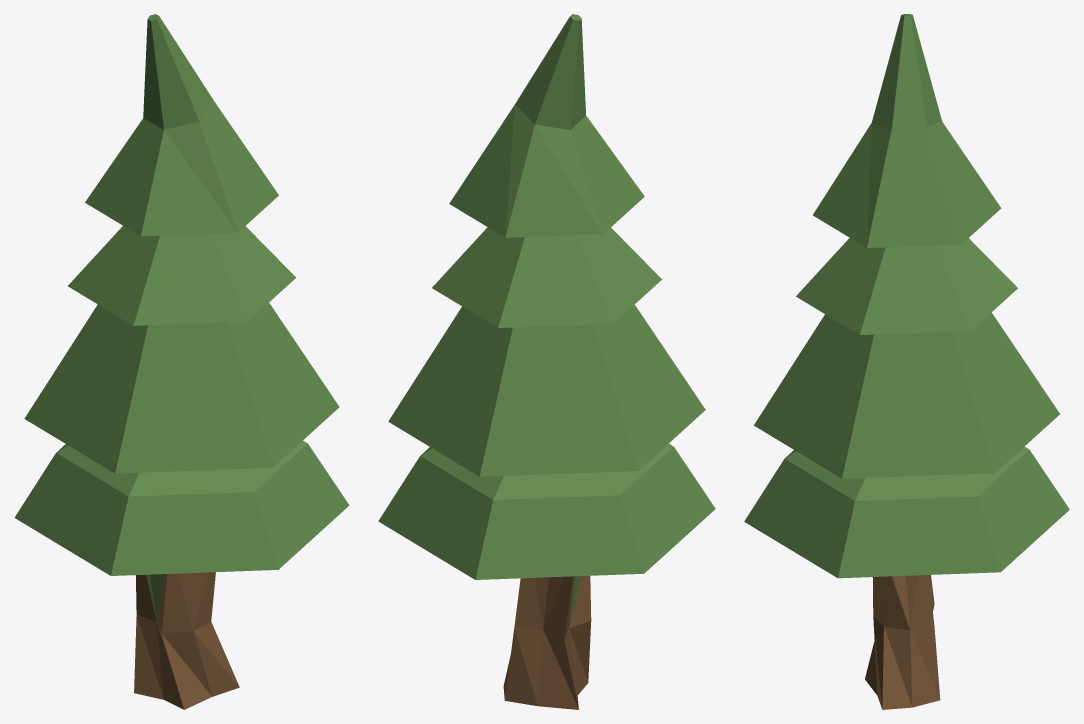
The model's file is tree3d-169.glb.
The picture shows the model from 3 angles, left to right: view 1: azimuth 30°, elevation 25°; view 2: azimuth 150°, elevation 25°; view 3: azimuth 270°, elevation 25°; orthographic projection. The views are drawn at different scales.
Visible parts, largest first — view 1: tree3d-169; view 2: tree3d-169; view 3: tree3d-169.
Part boxes in pixels (x1,y1,x2,y2): tree3d-169: [14, 14, 349, 709]; tree3d-169: [378, 14, 715, 709]; tree3d-169: [744, 14, 1069, 709].
Size of the model in its own units: 0.4062 by 1 by 0.4465.
